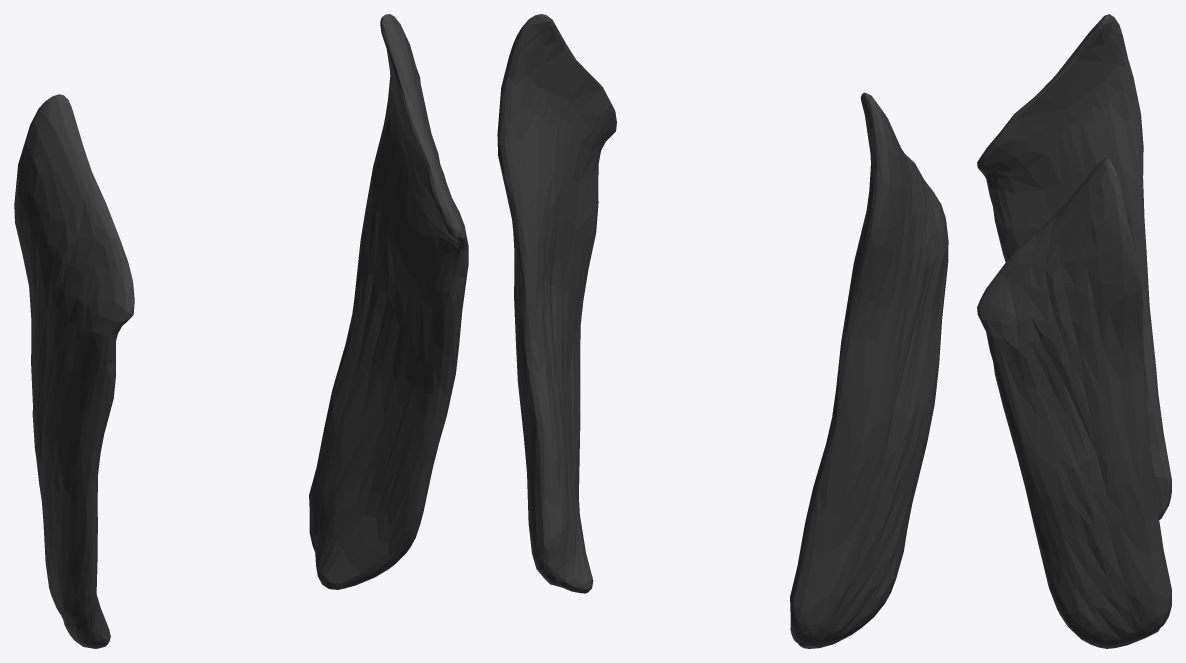
The model's file is m_biceps_femoris.glb.
The picture shows the model from 3 angles, left to right: view 1: azimuth 30°, elevation 25°; view 2: azimuth 150°, elevation 25°; view 3: azimuth 270°, elevation 25°; orthographic projection. The views are drawn at different scales.
Parts seen in each view (by area): view 1: m_biceps_femoris; view 2: m_biceps_femoris; view 3: m_biceps_femoris.
Part boxes in pixels (left/top/right/bottom): m_biceps_femoris: left=14, top=14, right=468, bottom=648; m_biceps_femoris: left=497, top=14, right=948, bottom=648; m_biceps_femoris: left=977, top=14, right=1171, bottom=648.
Bounding box in the file's own units: 0.00577 × 0.00797 × 0.00277.
Materials: 1 (1 with a texture image).
